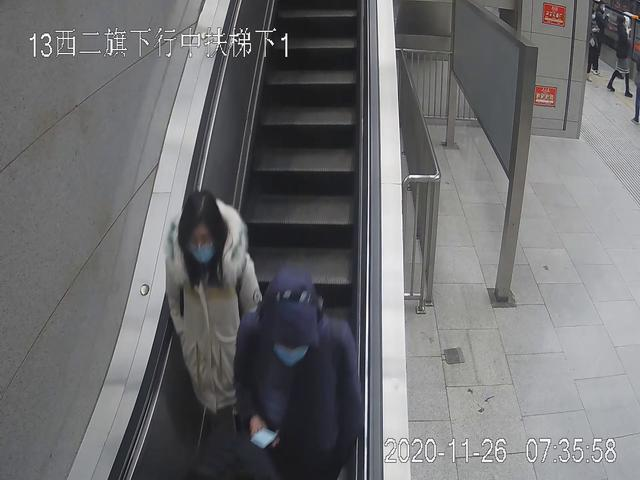person: (235, 269, 364, 479), (165, 193, 264, 459), (608, 13, 634, 98)
